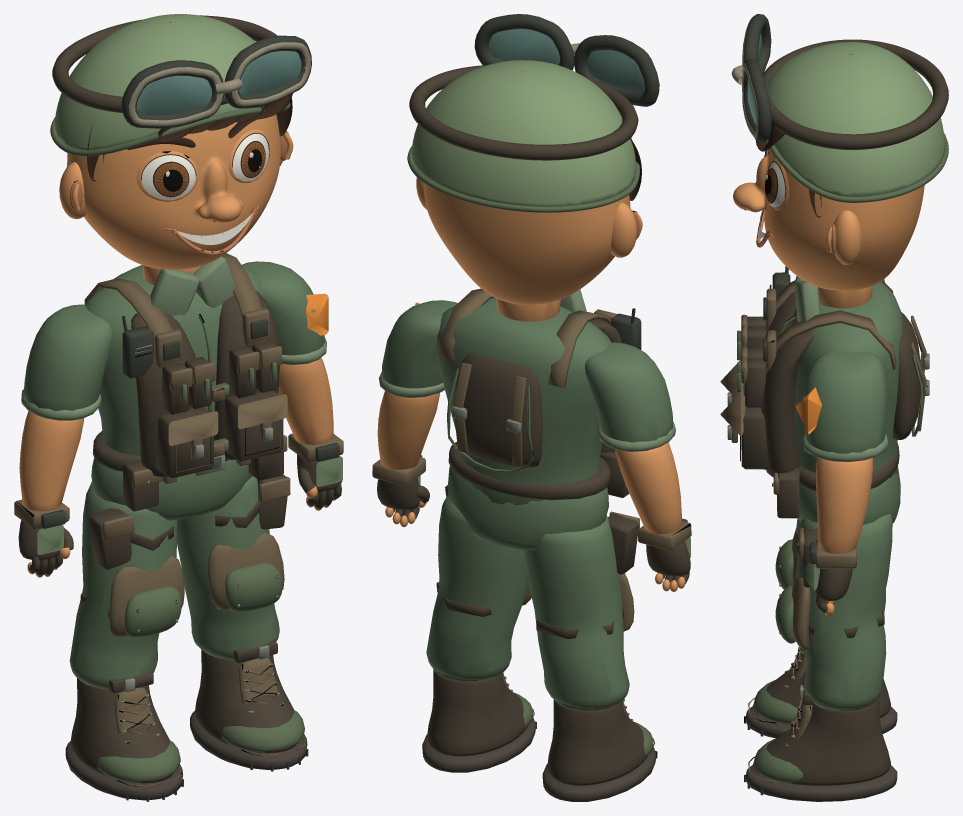
Rendered from soldier-source.glb.
3 views of the same model, side by side, from view 1: azimuth 30°, elevation 25°; view 2: azimuth 150°, elevation 25°; view 3: azimuth 270°, elevation 25° (orthographic). The views are drawn at different scales.
Visible parts, largest first — view 1: soldier-atlas-source; view 2: soldier-atlas-source; view 3: soldier-atlas-source.
Boxes of the visible parts, left/top/right/bottom form: soldier-atlas-source: left=14, top=14, right=343, bottom=801; soldier-atlas-source: left=372, top=14, right=691, bottom=801; soldier-atlas-source: left=720, top=14, right=948, bottom=801.
Size of the model in its own units: 1.48 by 3.25 by 0.9478.
1 material, 1 textured.
